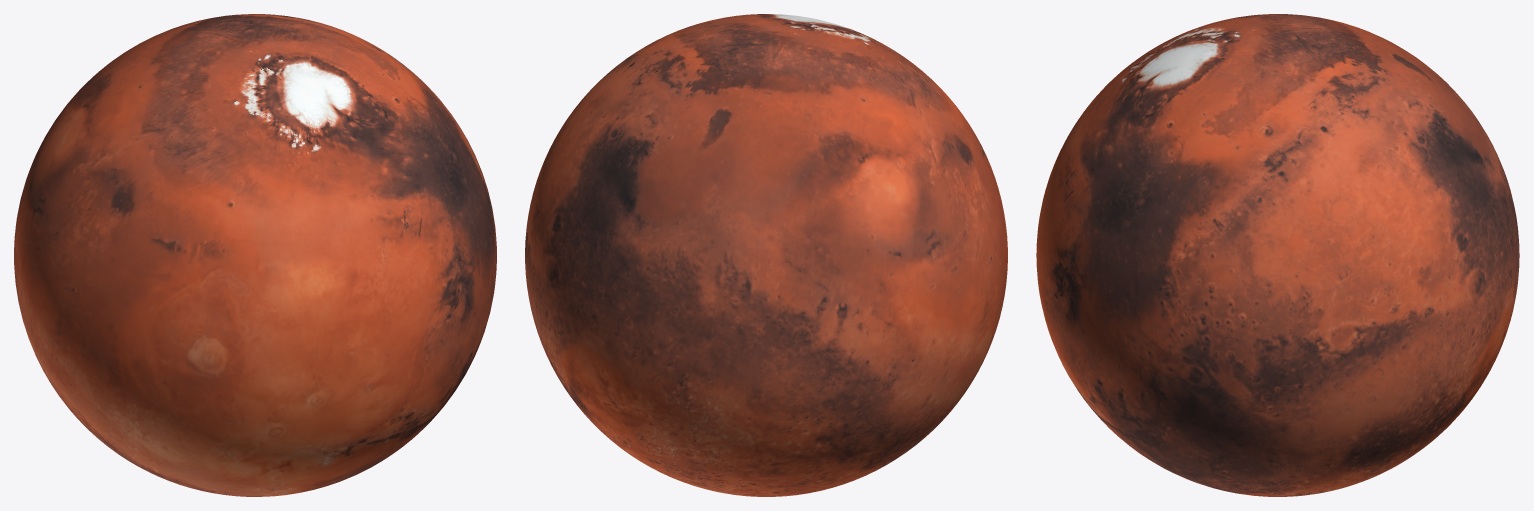
File: Mars.glb
3 renders of one model, left to right at view 1: azimuth 30°, elevation 25°; view 2: azimuth 150°, elevation 25°; view 3: azimuth 270°, elevation 25°, orthographic.
Parts seen in each view (by area): view 1: Mars; view 2: Mars; view 3: Mars.
Boxes of the visible parts, x1,y1,x2,y2 form: Mars: [14, 14, 496, 496]; Mars: [525, 14, 1007, 496]; Mars: [1036, 14, 1519, 496].
Bounding box in the file's own units: 2 × 2 × 2.
1 material, 1 textured.
